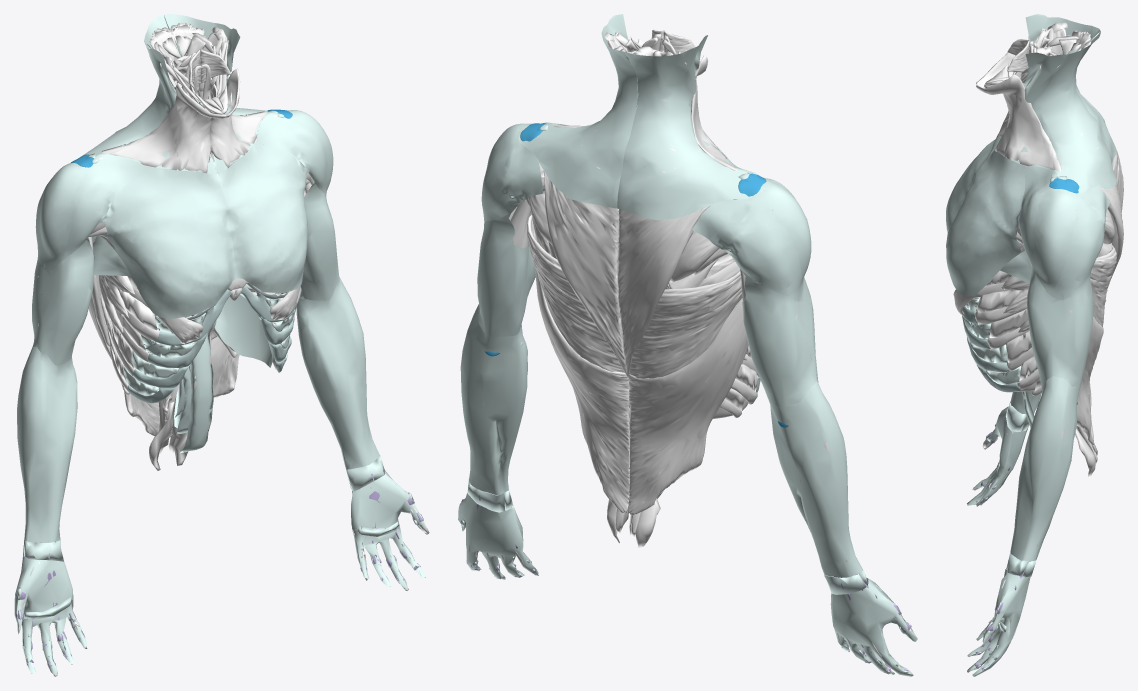
Rendered from shoulder.glb.
3 renders of one model, left to right at view 1: azimuth 30°, elevation 25°; view 2: azimuth 150°, elevation 25°; view 3: azimuth 270°, elevation 25°, orthographic. The views are drawn at different scales.
Visible parts, largest first — view 1: Pectoral fascia.r, Pectoral fascia.l, Antebrachial fascia.r, Antebrachial fascia.l, Deltoid fascia.r, Brachial fascia.r, Platysma.r, Palmar aponeurosis.l, Palmar aponeurosis.r, Deltoid fascia.l, Brachial fascia.l, Superficial investing cervical fascia.r (+16 smaller); view 2: Latissimus dorsi muscle.r, Superficial investing cervical fascia.r, Latissimus dorsi muscle.l, Antebrachial fascia.r, Antebrachial fascia.l, Superficial investing cervical fascia.l, Deltoid fascia.r, Descending part of trapezius muscle.l, Brachial fascia.r, Descending part of trapezius muscle.r, Brachial fascia.l, Deltoid fascia.l (+5 smaller); view 3: Deltoid fascia.l, Pectoral fascia.l, Superficial investing cervical fascia.l, Antebrachial fascia.l, Brachial fascia.l, Platysma.l, Latissimus dorsi muscle.l, External intercostal muscles.l, Superficial investing cervical fascia.r, Dorsal fascia of hand.l, External intercostal membrane.l, Palmar aponeurosis.l (+20 smaller).
Part boxes in pixels (x1=…): Pectoral fascia.r: x1=99, y1=166, x2=236, y2=319; Pectoral fascia.l: x1=217, y1=139, x2=309, y2=292; Antebrachial fascia.r: x1=17, y1=346, x2=77, y2=542; Antebrachial fascia.l: x1=296, y1=277, x2=379, y2=469; Deltoid fascia.r: x1=35, y1=154, x2=145, y2=270; Brachial fascia.r: x1=32, y1=237, x2=94, y2=365; Platysma.r: x1=101, y1=83, x2=226, y2=173; Palmar aponeurosis.l: x1=351, y1=473, x2=428, y2=589; Palmar aponeurosis.r: x1=16, y1=559, x2=87, y2=674; Deltoid fascia.l: x1=257, y1=110, x2=333, y2=196; Brachial fascia.l: x1=299, y1=182, x2=339, y2=300; Superficial investing cervical fascia.r: x1=74, y1=14, x2=216, y2=173; Latissimus dorsi muscle.r: x1=627, y1=270, x2=748, y2=515; Superficial investing cervical fascia.r: x1=617, y1=35, x2=761, y2=220; Latissimus dorsi muscle.l: x1=527, y1=215, x2=629, y2=512; Antebrachial fascia.r: x1=768, y1=381, x2=862, y2=577; Antebrachial fascia.l: x1=460, y1=304, x2=527, y2=495; Superficial investing cervical fascia.l: x1=518, y1=14, x2=637, y2=208; Deltoid fascia.r: x1=692, y1=158, x2=811, y2=301; Descending part of trapezius muscle.l: x1=543, y1=171, x2=628, y2=377; Brachial fascia.r: x1=738, y1=266, x2=818, y2=406; Descending part of trapezius muscle.r: x1=618, y1=205, x2=710, y2=378; Brachial fascia.l: x1=477, y1=210, x2=535, y2=336; Deltoid fascia.l: x1=481, y1=123, x2=568, y2=221; Deltoid fascia.l: x1=1018, y1=166, x2=1110, y2=300; Pectoral fascia.l: x1=946, y1=151, x2=1025, y2=296; Superficial investing cervical fascia.l: x1=994, y1=32, x2=1116, y2=194; Antebrachial fascia.l: x1=1010, y1=376, x2=1081, y2=560; Brachial fascia.l: x1=1027, y1=264, x2=1093, y2=387; Platysma.l: x1=976, y1=74, x2=1061, y2=171; Latissimus dorsi muscle.l: x1=1076, y1=245, x2=1116, y2=445; External intercostal muscles.l: x1=977, y1=270, x2=1040, y2=390; Superficial investing cervical fascia.r: x1=983, y1=14, x2=1116, y2=162; Dorsal fascia of hand.l: x1=969, y1=575, x2=1029, y2=676; External intercostal membrane.l: x1=962, y1=297, x2=1021, y2=384; Palmar aponeurosis.l: x1=967, y1=569, x2=1013, y2=676.
Bounding box in the file's own units: 0.6713 × 0.8889 × 0.257.
